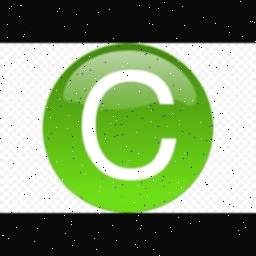c: (78, 60, 188, 182)
